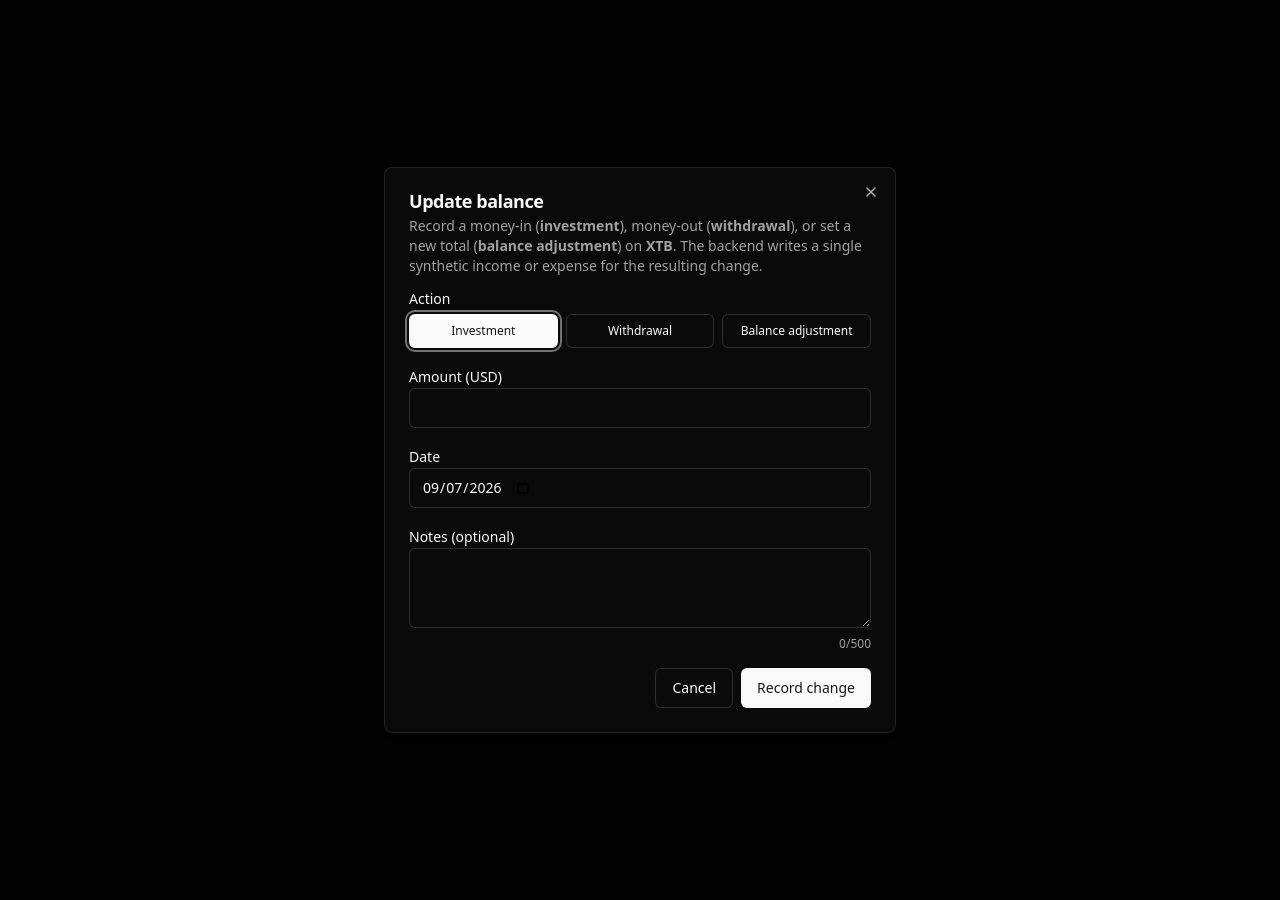
Test: UpdateBalanceDialog › records a withdrawal and toasts the withdrawal message
Click the button with test id "balance-kind-withdrawal" at (640, 331), box [566,314,714,348]
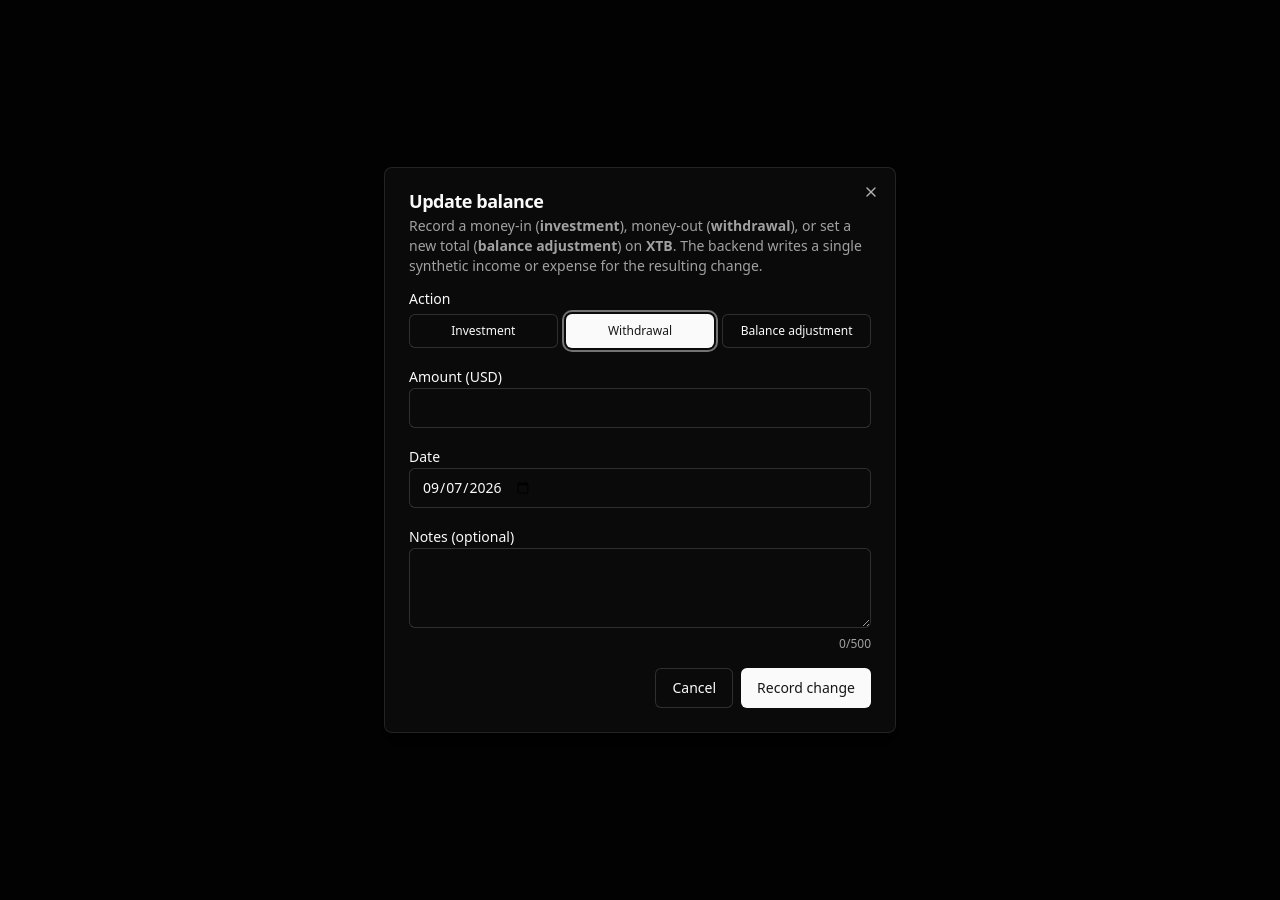
Type "300" into the number field with test id "balance-amount-input" at (640, 408), box [409,388,871,428]
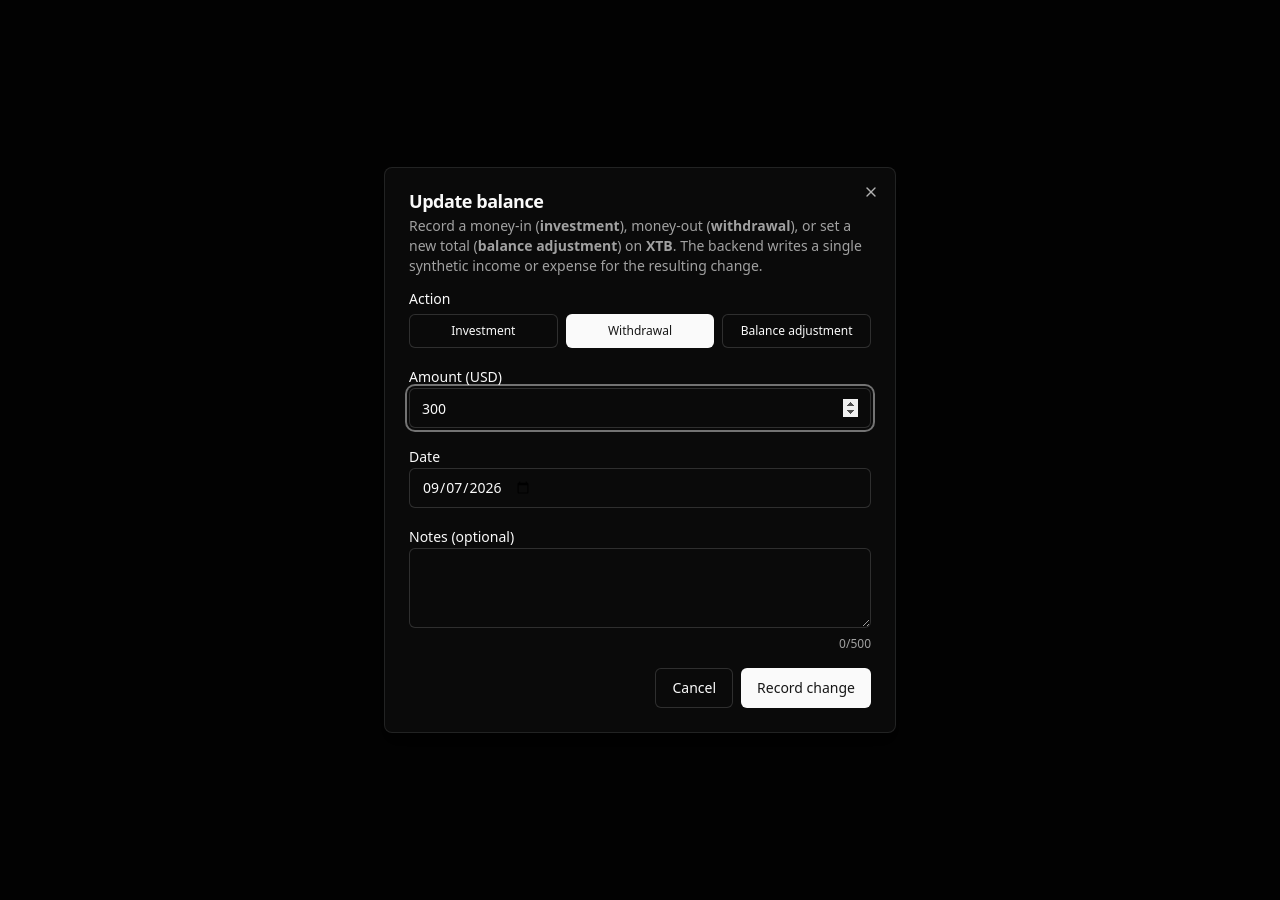
Click the button with test id "adjust-submit-button" at (806, 688), box [741,668,871,708]
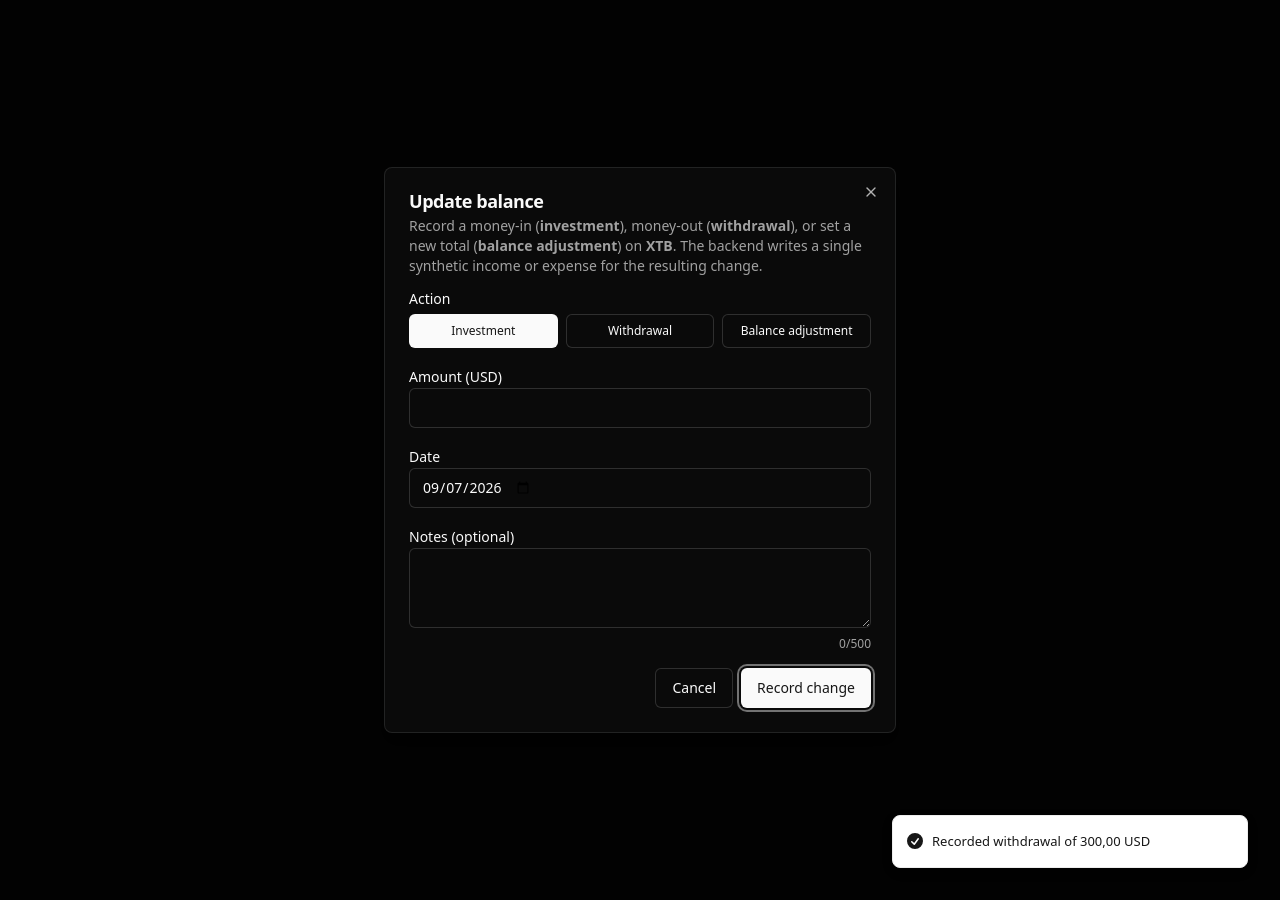
Now the text "Recorded withdrawal of 300,00 USD" is shown, box [932,832,1150,851]
